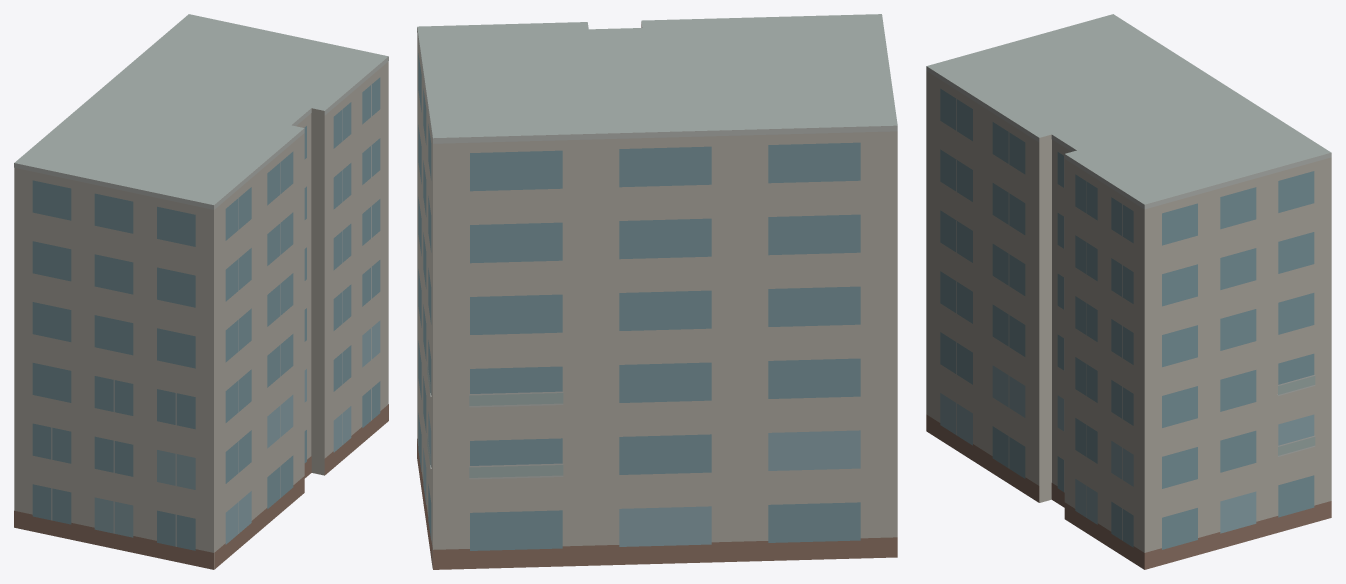
Rendered from survey-upis-32732644.glb.
3 views of the same model, side by side, from view 1: azimuth 30°, elevation 25°; view 2: azimuth 150°, elevation 25°; view 3: azimuth 270°, elevation 25° (orthographic). The views are drawn at different scales.
Visible parts, largest first — view 1: survey-upis-32732644.tmp; view 2: survey-upis-32732644.tmp; view 3: survey-upis-32732644.tmp.
Boxes of the visible parts, box(x1,y1,x2,y2) form: survey-upis-32732644.tmp: box(14, 14, 388, 569); survey-upis-32732644.tmp: box(417, 14, 897, 569); survey-upis-32732644.tmp: box(926, 14, 1331, 569).
Bounding box in the file's own units: 21.06 × 18.8 × 18.91.
